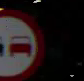No overtake: (0, 4, 44, 77)
